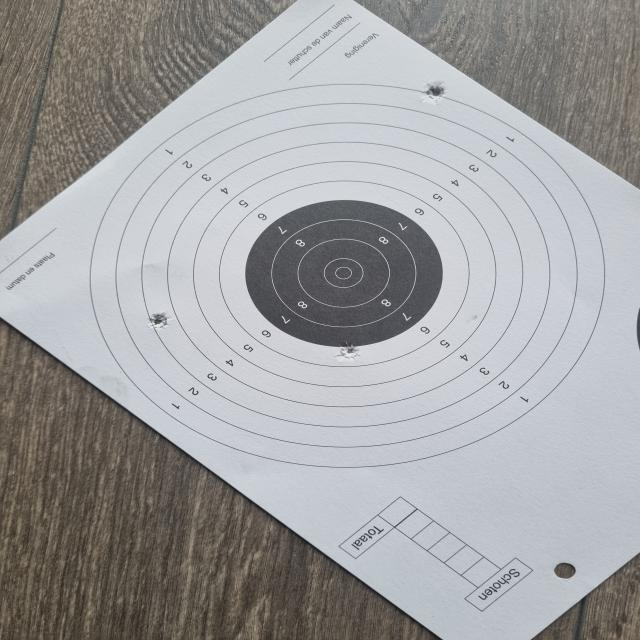1: (421, 82, 444, 103)
4: (148, 312, 170, 330)
8: (334, 344, 360, 359)
Black Contour: (245, 200, 443, 348)
Target: (88, 83, 606, 466)
